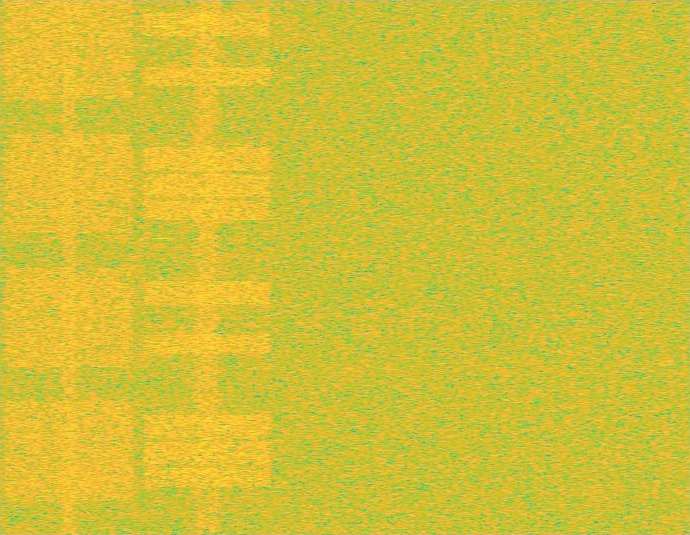5G: (0, 0, 138, 534)
DSSS: (191, 0, 223, 534), (60, 0, 78, 534)
LTE: (138, 0, 276, 534)
Radar: (157, 0, 170, 534)
